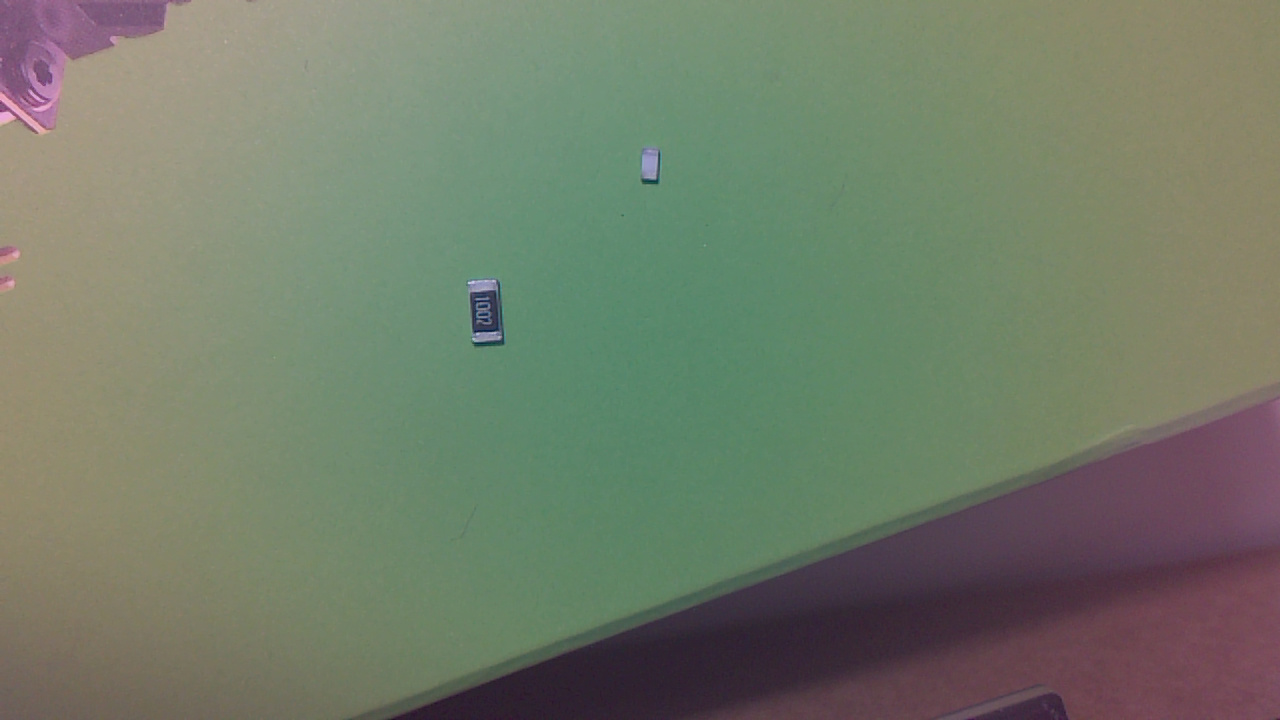Resistor: (469, 282, 511, 352)
